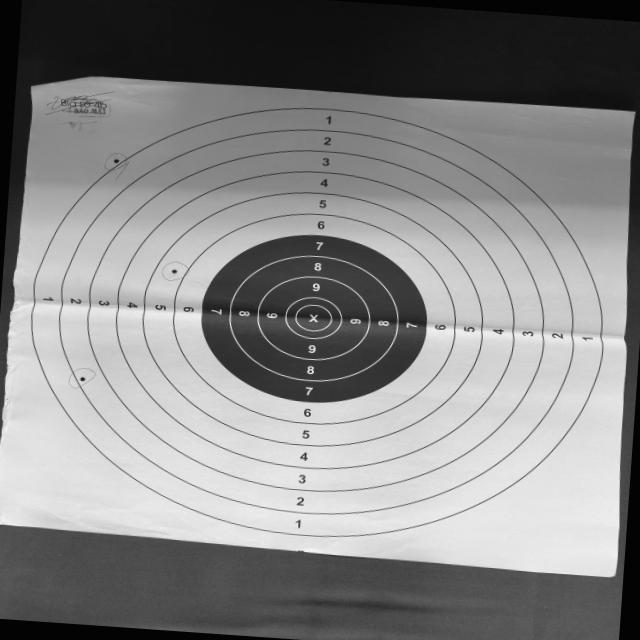bullet: (170, 268, 177, 273), (78, 376, 85, 381), (113, 159, 119, 164)
target: (0, 77, 633, 576)
